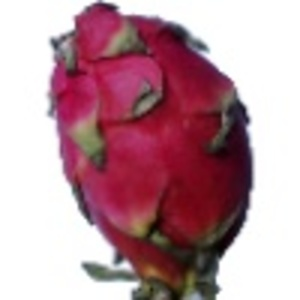pitaia: (47, 1, 255, 300)
